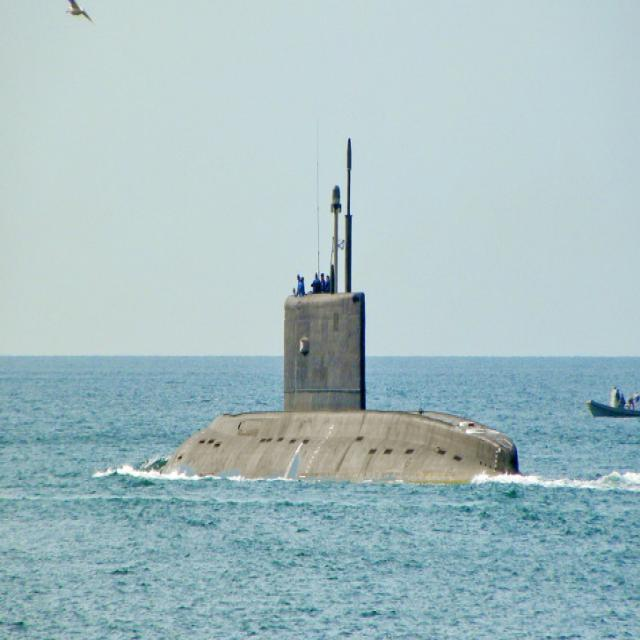submarine: (160, 142, 522, 484)
